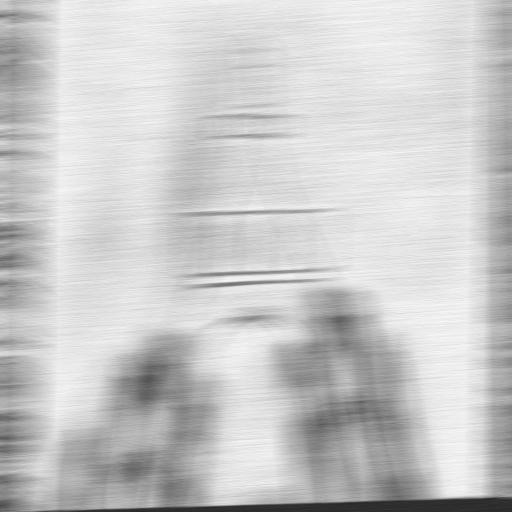bottom_left: (479, 490, 495, 496)
eiffel-tower: (85, 14, 417, 432)
